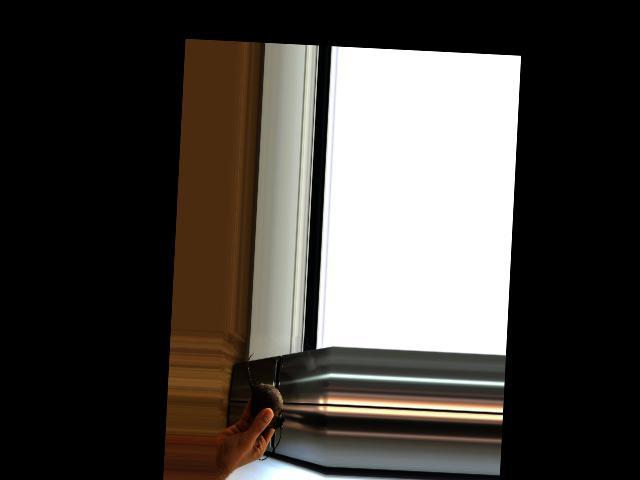beet: (242, 352, 287, 461)
